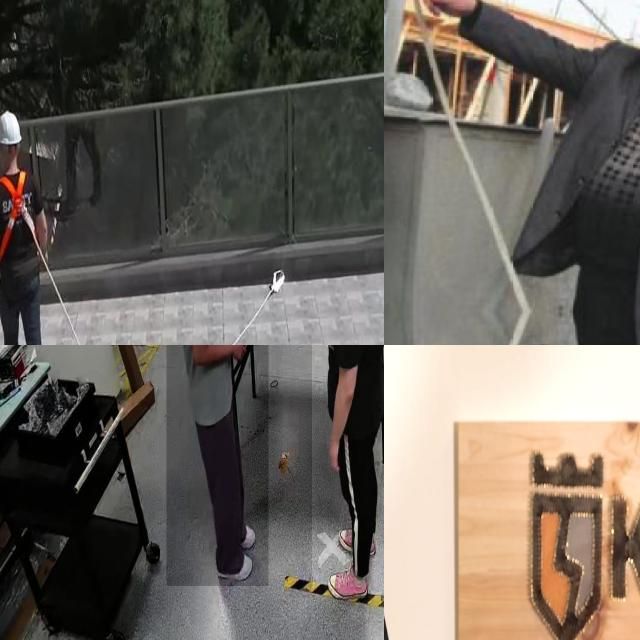Harness: (32, 230, 82, 345), (233, 270, 286, 345), (0, 171, 26, 262)
hand_noglove: (426, 0, 476, 16), (328, 436, 341, 473), (232, 345, 248, 362)
person: (166, 345, 269, 587), (312, 345, 384, 596)
shoes: (328, 569, 368, 608), (219, 517, 261, 554), (337, 525, 377, 563), (213, 548, 254, 583)
